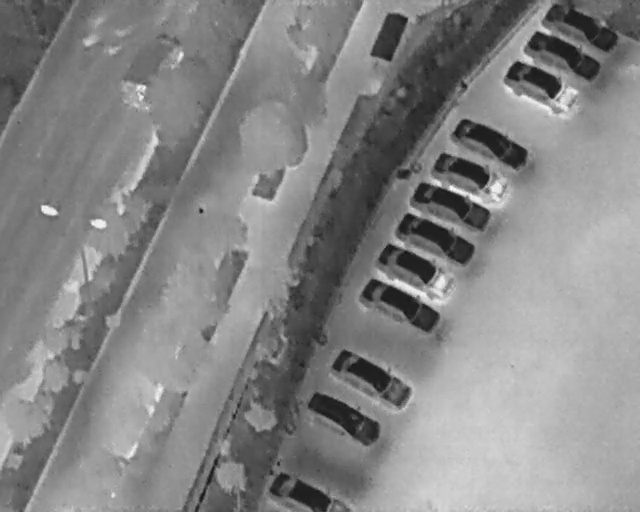Car: (324, 340, 421, 419), (357, 270, 447, 340), (298, 384, 389, 452), (497, 52, 584, 122), (370, 236, 459, 303), (391, 205, 480, 272), (406, 174, 496, 237), (425, 144, 515, 207), (447, 111, 533, 176), (522, 22, 607, 87), (543, 0, 622, 58), (265, 471, 353, 511)
OtherVehicle: (108, 20, 192, 120)
